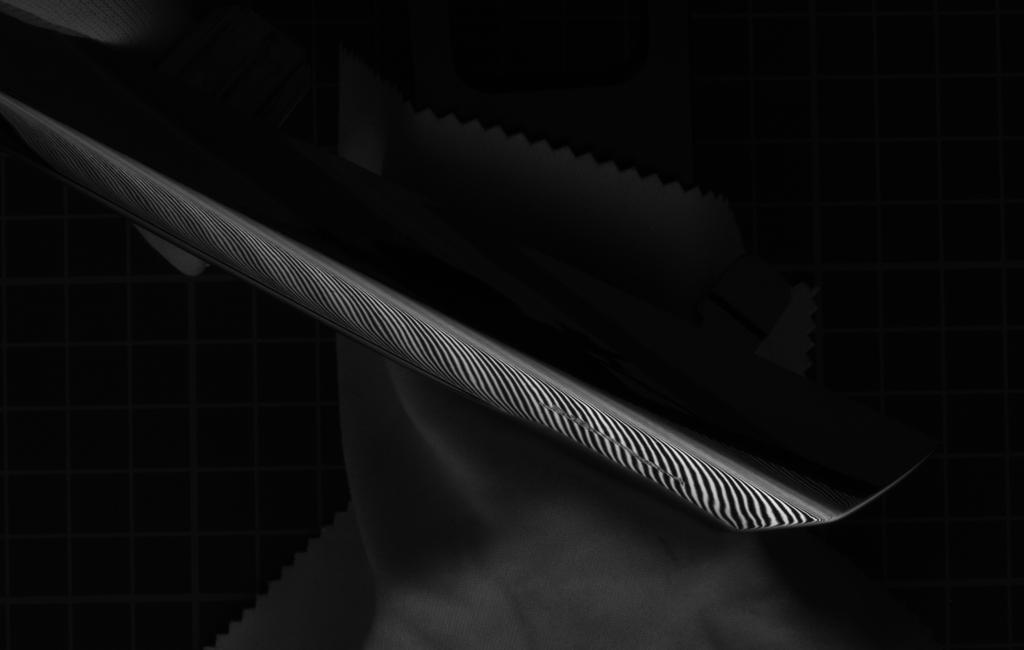Scratch: (536, 397, 695, 490)
